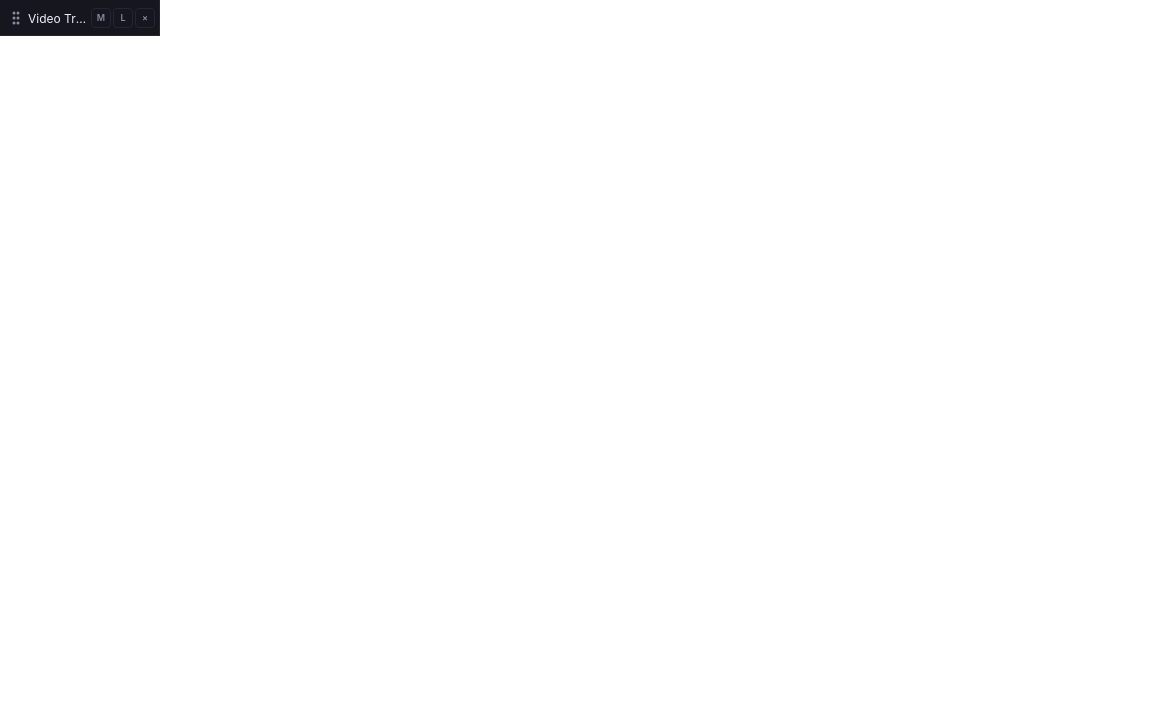
it: TrackHeader › closes dialog after confirming deletion
The width and height of the screenshot is (1152, 720).
Click the button named "Delete track": (145, 18) [135, 8, 155, 28]
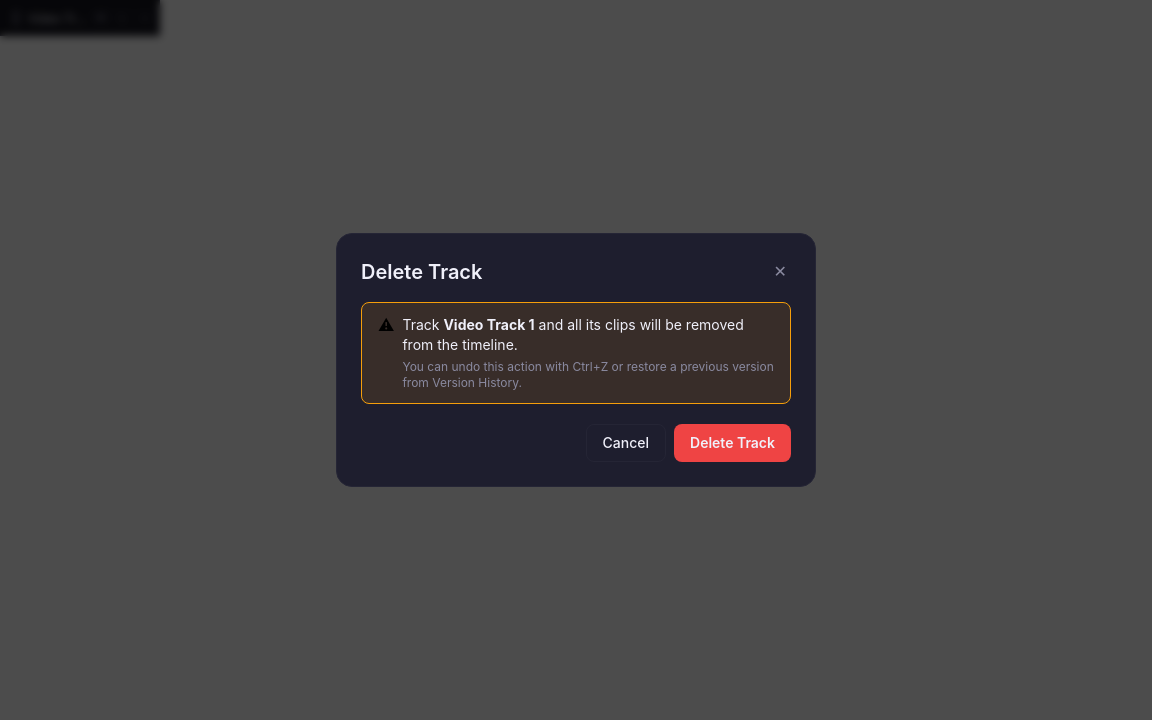
Click the button with aria-label "delete track video track 1": (732, 443) [674, 424, 791, 462]
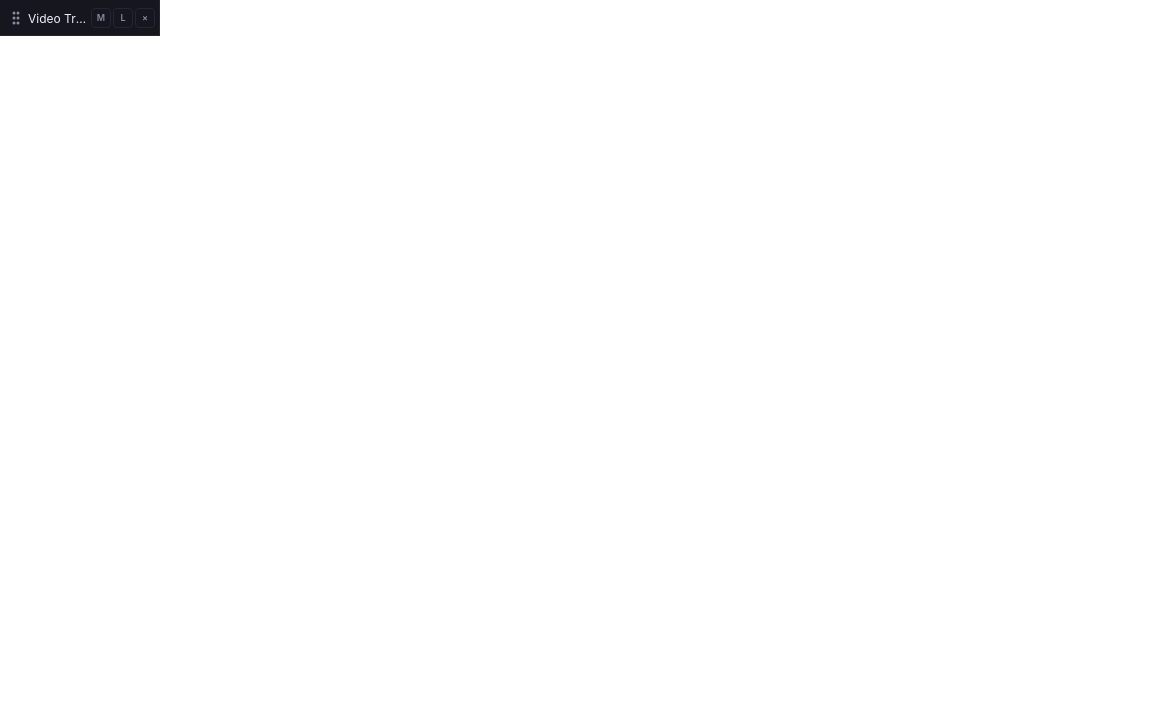
Check: the dialog is gone
